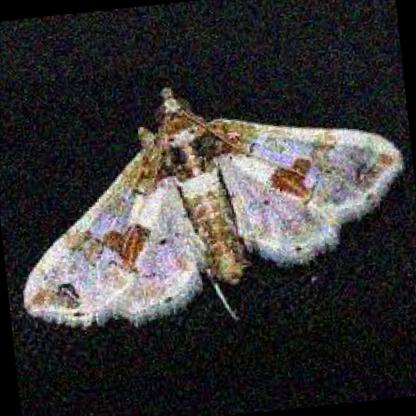leucinodes: (26, 93, 402, 333)
